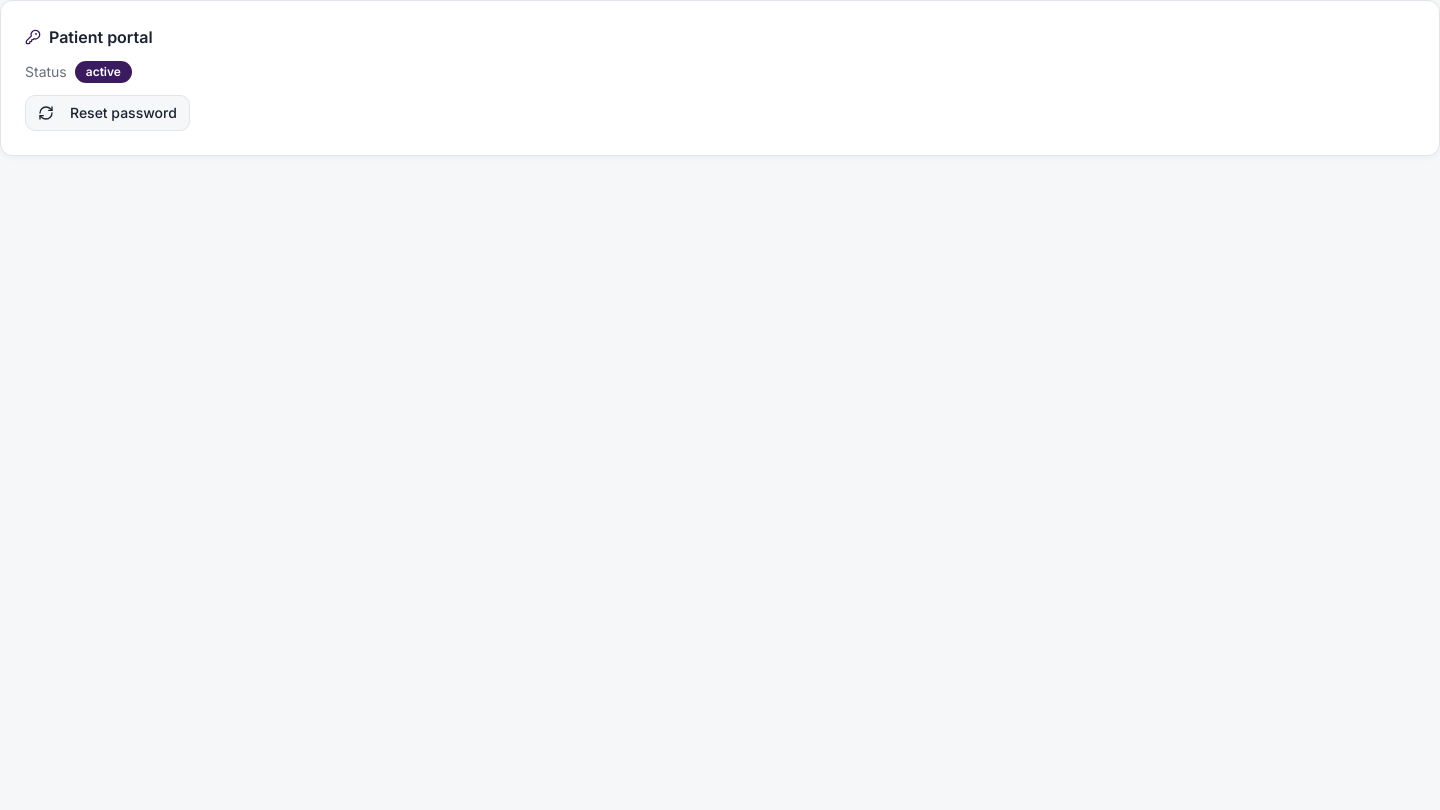
it: refreshes the mandatory-password badge after a confirmed reset
What coordinates should you click on to do the following:
click the button "Reset password"
I would click on:
 (107, 113)
Its box is [25,95,190,131].
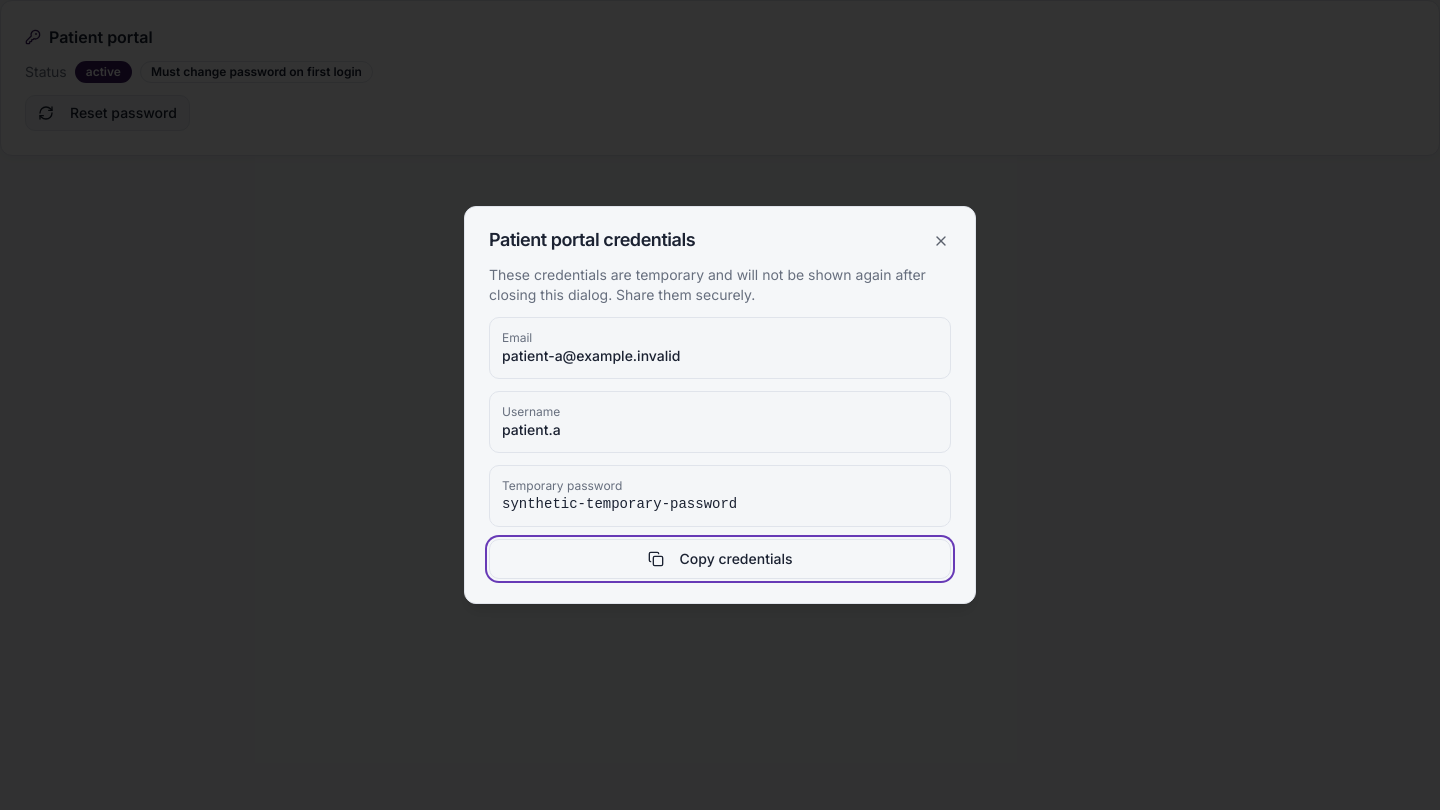
Now the text "synthetic-temporary-password" is shown, box [502,496,737,512]
Now the text "Must change password on first login" is shown, box [140,61,373,83]
